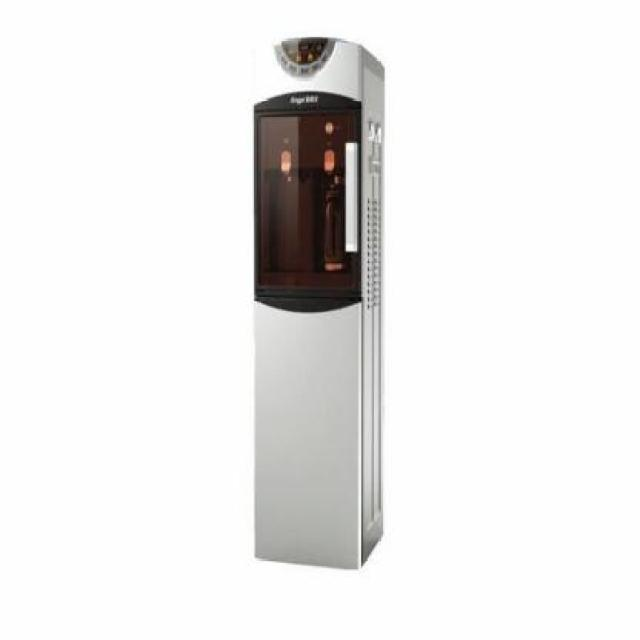cooler: (251, 34, 390, 571)
